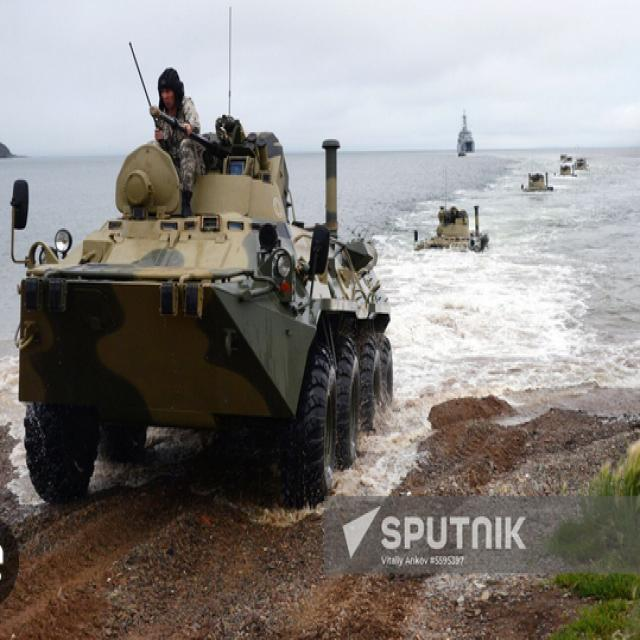MIL_APC: (14, 94, 422, 519)
